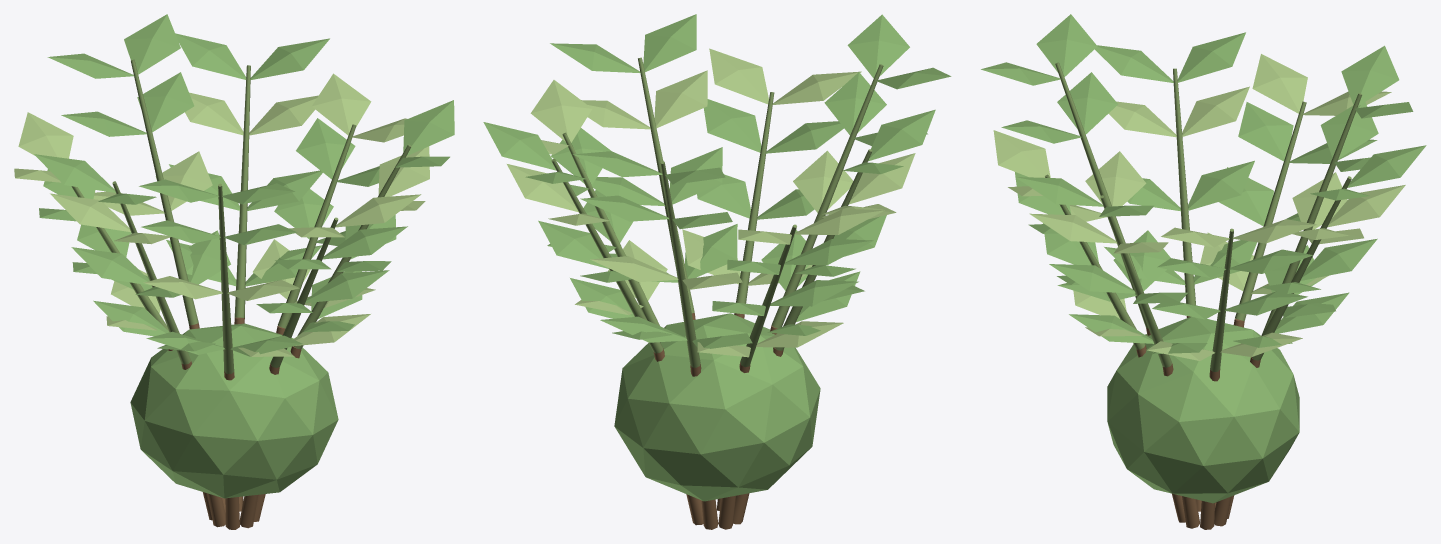
The model's file is bush_loose_leafy.glb.
3 renders of one model, left to right at view 1: azimuth 30°, elevation 25°; view 2: azimuth 150°, elevation 25°; view 3: azimuth 270°, elevation 25°, orthographic. The views are drawn at different scales.
Parts seen in each view (by area): view 1: Loose_Shrub_Low_Leaf_Cluster, Loose_Shrub_Leaf_0_3_1, Loose_Shrub_Leaf_2_3_-1, Loose_Shrub_Leaf_7_3_1, Loose_Shrub_Leaf_0_2_1, Loose_Shrub_Leaf_2_2_-1, Loose_Shrub_Upper_Stem_2, Loose_Shrub_Upper_Stem_1, Loose_Shrub_Leaf_3_3_-1, Loose_Shrub_Leaf_1_3_1, Loose_Shrub_Leaf_1_3_-1, Loose_Shrub_Leaf_4_3_-1 (+42 smaller); view 2: Loose_Shrub_Low_Leaf_Cluster, Loose_Shrub_Leaf_0_3_-1, Loose_Shrub_Leaf_5_3_1, Loose_Shrub_Leaf_7_3_-1, Loose_Shrub_Leaf_7_2_-1, Loose_Shrub_Leaf_6_3_1, Loose_Shrub_Leaf_6_2_1, Loose_Shrub_Leaf_5_2_1, Loose_Shrub_Upper_Stem_5, Loose_Shrub_Leaf_4_3_1, Loose_Shrub_Leaf_5_1_1, Loose_Shrub_Leaf_1_3_-1 (+44 smaller); view 3: Loose_Shrub_Low_Leaf_Cluster, Loose_Shrub_Leaf_5_3_-1, Loose_Shrub_Leaf_3_3_1, Loose_Shrub_Leaf_2_3_1, Loose_Shrub_Leaf_3_2_1, Loose_Shrub_Leaf_5_2_-1, Loose_Shrub_Leaf_6_3_-1, Loose_Shrub_Leaf_4_3_-1, Loose_Shrub_Leaf_4_2_-1, Loose_Shrub_Leaf_4_1_-1, Loose_Shrub_Leaf_5_1_-1, Loose_Shrub_Leaf_2_2_1 (+46 smaller).
Boxes of the visible parts, bbox=[...] form: Loose_Shrub_Low_Leaf_Cluster: bbox=[130, 323, 338, 498]; Loose_Shrub_Leaf_0_3_1: bbox=[311, 73, 371, 135]; Loose_Shrub_Leaf_2_3_-1: bbox=[124, 14, 180, 74]; Loose_Shrub_Leaf_7_3_1: bbox=[403, 100, 454, 155]; Loose_Shrub_Leaf_0_2_1: bbox=[296, 118, 355, 179]; Loose_Shrub_Leaf_2_2_-1: bbox=[137, 72, 194, 132]; Loose_Shrub_Upper_Stem_2: bbox=[131, 59, 198, 325]; Loose_Shrub_Upper_Stem_1: bbox=[234, 65, 250, 317]; Loose_Shrub_Leaf_3_3_-1: bbox=[18, 112, 73, 158]; Loose_Shrub_Leaf_1_3_1: bbox=[175, 33, 246, 79]; Loose_Shrub_Leaf_1_3_-1: bbox=[250, 38, 329, 80]; Loose_Shrub_Leaf_4_3_-1: bbox=[34, 154, 115, 192]; Loose_Shrub_Low_Leaf_Cluster: bbox=[614, 313, 820, 501]; Loose_Shrub_Leaf_0_3_-1: bbox=[530, 80, 592, 142]; Loose_Shrub_Leaf_5_3_1: bbox=[847, 14, 909, 78]; Loose_Shrub_Leaf_7_3_-1: bbox=[643, 14, 696, 72]; Loose_Shrub_Leaf_7_2_-1: bbox=[654, 70, 707, 127]; Loose_Shrub_Leaf_6_3_1: bbox=[709, 48, 768, 104]; Loose_Shrub_Leaf_6_2_1: bbox=[703, 99, 761, 152]; Loose_Shrub_Leaf_5_2_1: bbox=[824, 72, 886, 135]; Loose_Shrub_Upper_Stem_5: bbox=[771, 64, 883, 328]; Loose_Shrub_Leaf_4_3_1: bbox=[868, 109, 935, 161]; Loose_Shrub_Leaf_5_1_1: bbox=[793, 150, 853, 212]; Loose_Shrub_Leaf_1_3_-1: bbox=[483, 122, 556, 170]; Loose_Shrub_Low_Leaf_Cluster: bbox=[1107, 316, 1299, 503]; Loose_Shrub_Leaf_5_3_-1: bbox=[1036, 14, 1097, 76]; Loose_Shrub_Leaf_3_3_1: bbox=[1252, 54, 1307, 113]; Loose_Shrub_Leaf_2_3_1: bbox=[1341, 45, 1399, 106]; Loose_Shrub_Leaf_3_2_1: bbox=[1238, 102, 1293, 161]; Loose_Shrub_Leaf_5_2_-1: bbox=[1057, 72, 1118, 134]; Loose_Shrub_Leaf_6_3_-1: bbox=[993, 130, 1050, 177]; Loose_Shrub_Leaf_4_3_-1: bbox=[1178, 32, 1245, 82]; Loose_Shrub_Leaf_4_2_-1: bbox=[1182, 86, 1249, 136]; Loose_Shrub_Leaf_4_1_-1: bbox=[1188, 160, 1254, 210]; Loose_Shrub_Leaf_5_1_-1: bbox=[1085, 151, 1146, 206]; Loose_Shrub_Leaf_2_2_1: bbox=[1320, 102, 1378, 158].
Size of the model in its own units: 0.8402 by 0.8835 by 0.8402.
